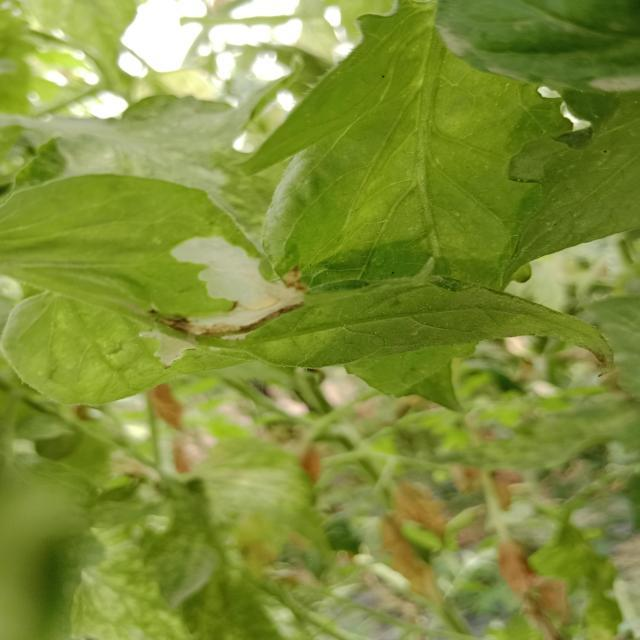Tuta absoluta: (111, 202, 315, 379)
